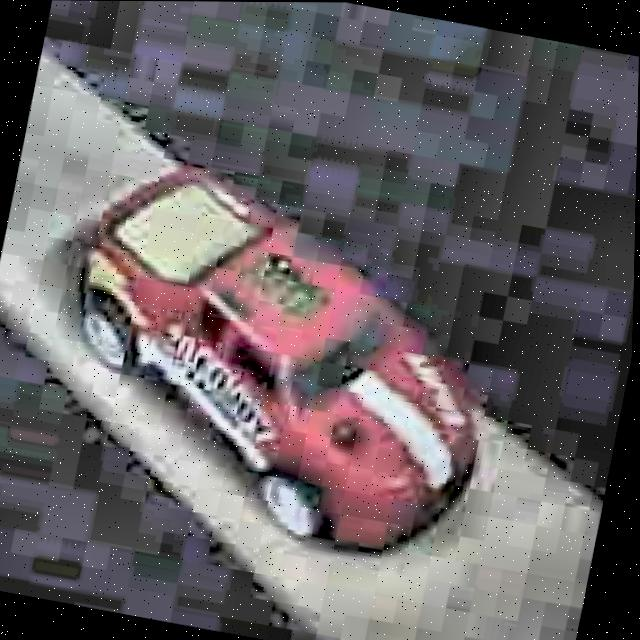car: (30, 145, 532, 579)
